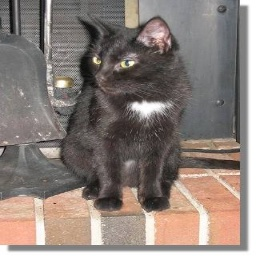cat: (62, 5, 184, 217)
